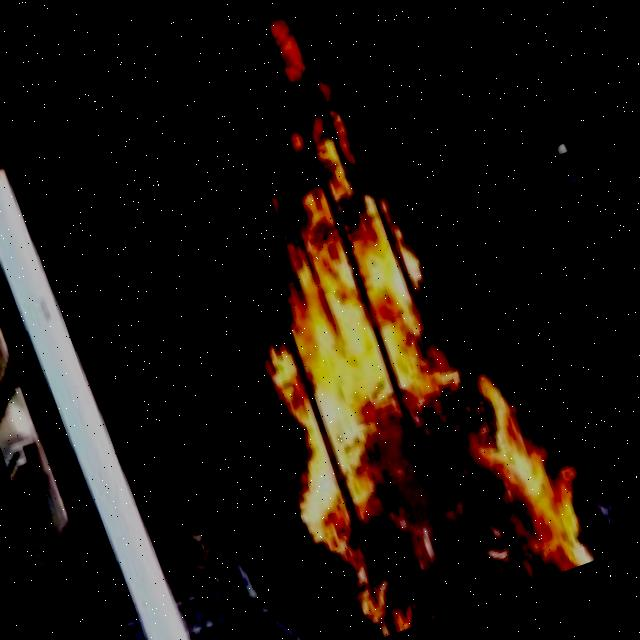Fire: (148, 16, 625, 640)
